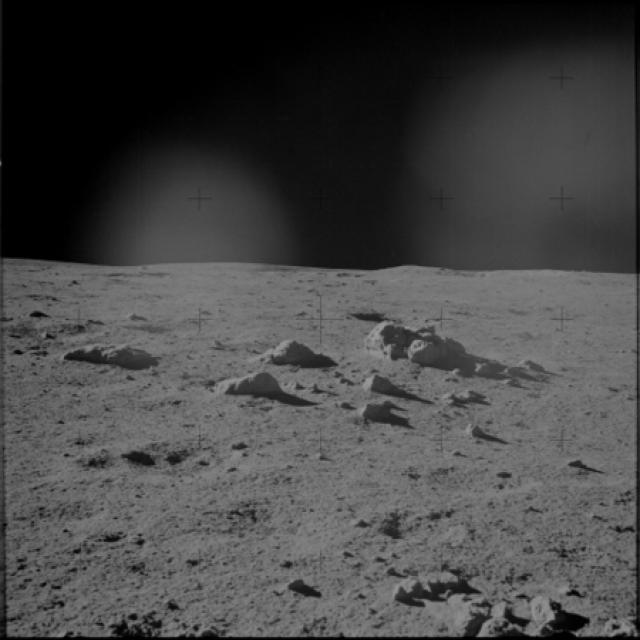crater: (73, 433, 261, 496), (355, 502, 471, 550), (351, 295, 439, 329)
rock: (392, 569, 593, 639), (353, 315, 461, 371), (57, 338, 159, 384), (468, 353, 560, 393), (252, 334, 334, 371), (210, 360, 284, 400), (338, 401, 409, 430), (438, 384, 480, 412), (602, 612, 638, 638), (351, 373, 390, 394), (461, 420, 500, 441)
